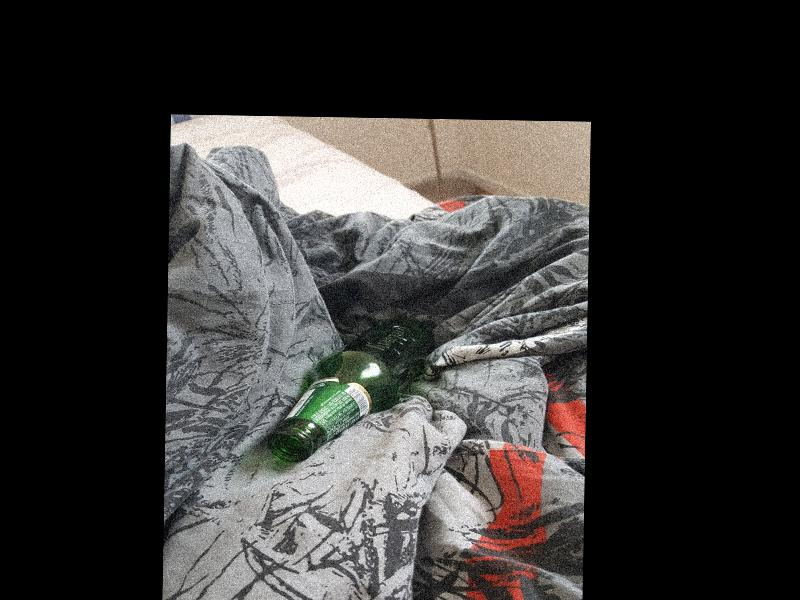Beer: (269, 316, 436, 465)
